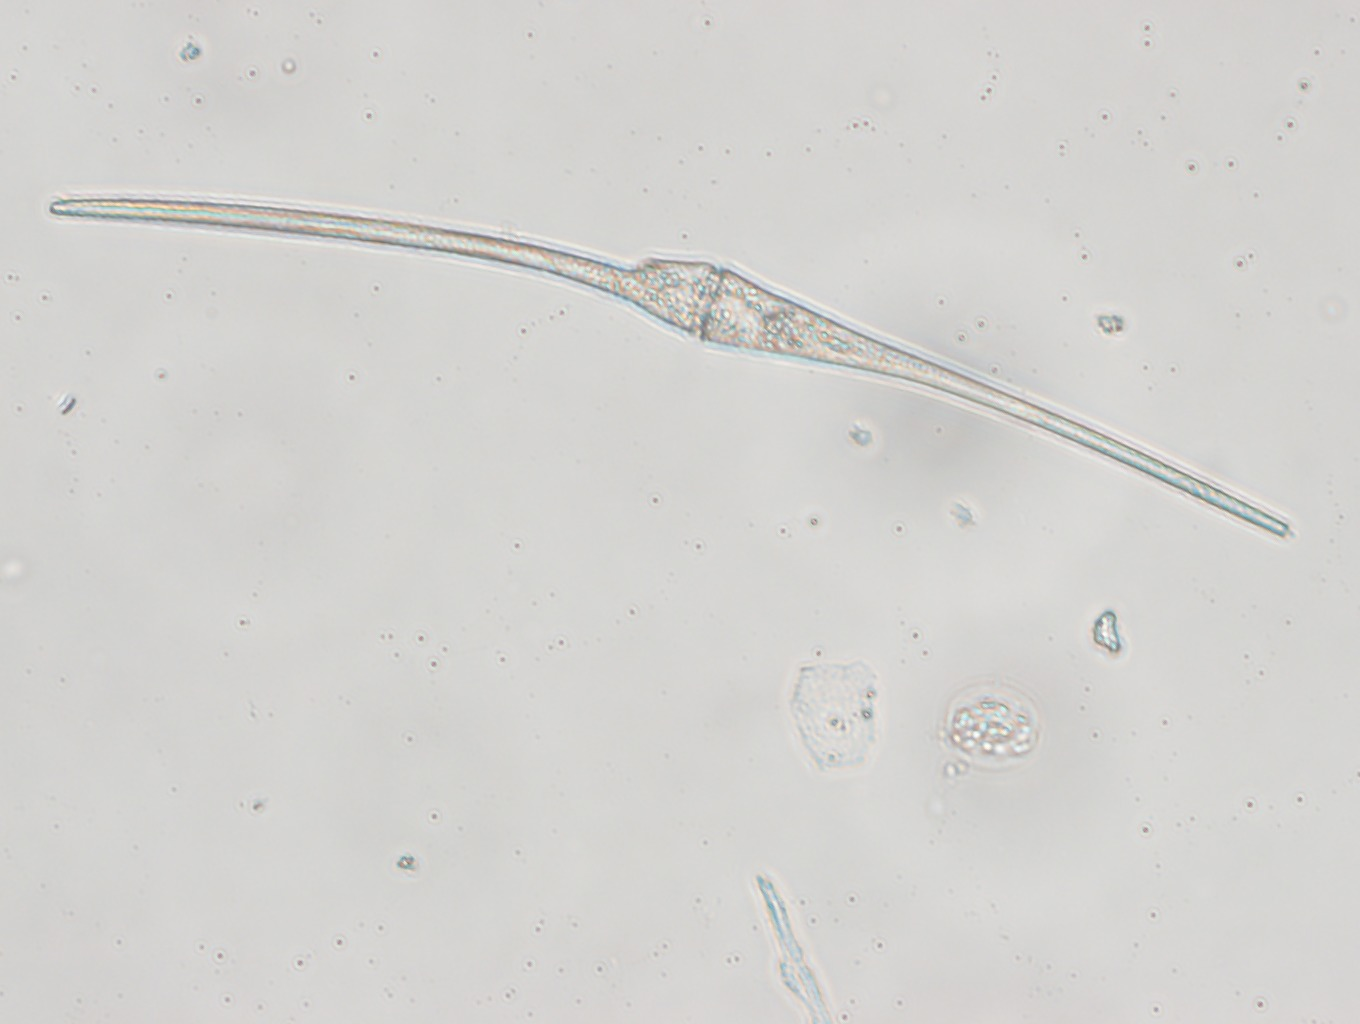ceratium fusus: (44, 194, 1300, 546)
